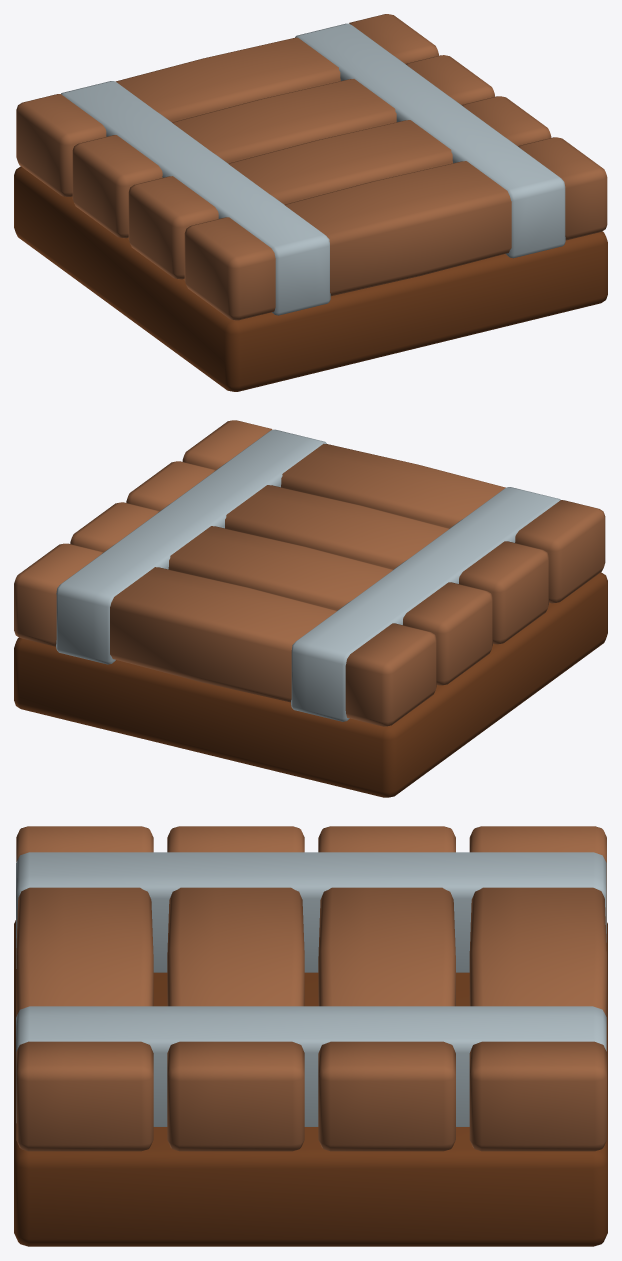
File: ground_plank.glb
3 views of the same model, one above another, from view 1: azimuth 30°, elevation 25°; view 2: azimuth 150°, elevation 25°; view 3: azimuth 270°, elevation 25° (orthographic). The views are drawn at different scales.
Visible parts, largest first — view 1: ground_plank; view 2: ground_plank; view 3: ground_plank.
Boxes of the visible parts, x1,y1,x2,y2 form: ground_plank: (14,14,607,391); ground_plank: (14,420,607,797); ground_plank: (14,826,607,1246).
Size of the model in its own units: 8 by 2.71 by 8.
